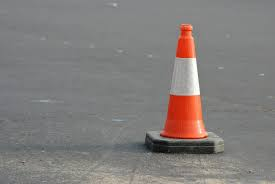cone: (144, 25, 224, 153)
